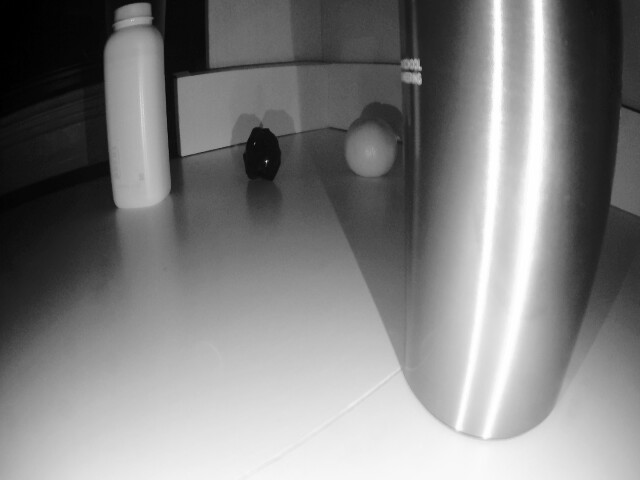black: (236, 115, 284, 180)
